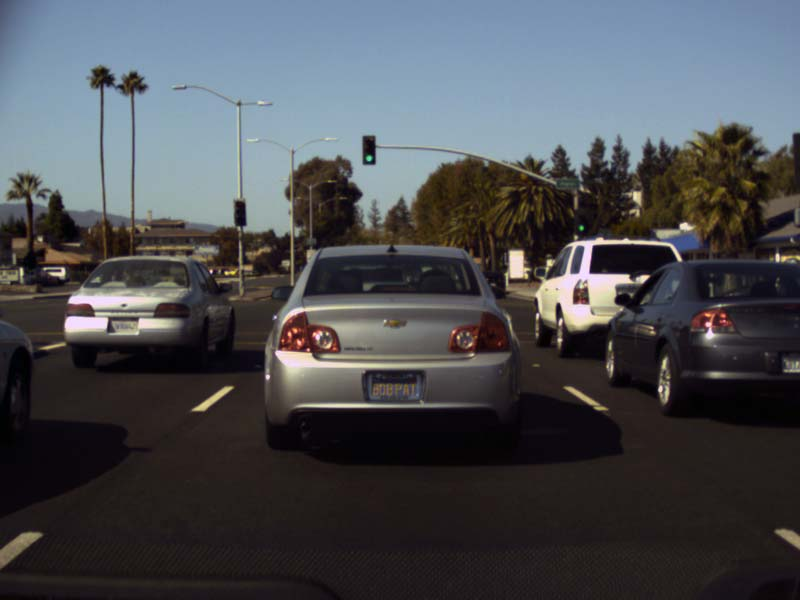Green: (362, 135, 375, 164), (575, 209, 589, 234)
